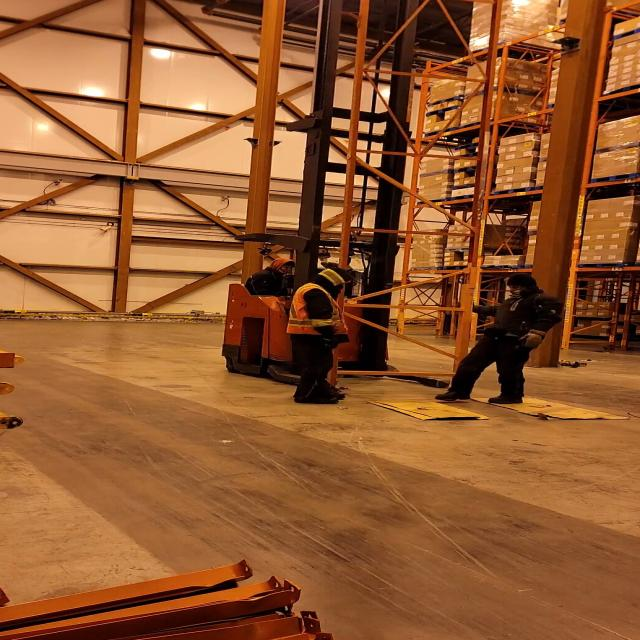forklift: (217, 114, 454, 402)
human: (432, 272, 567, 406), (283, 267, 360, 405), (237, 257, 300, 297)
objectofinterest: (338, 0, 489, 389), (468, 391, 634, 421), (368, 396, 492, 422)
